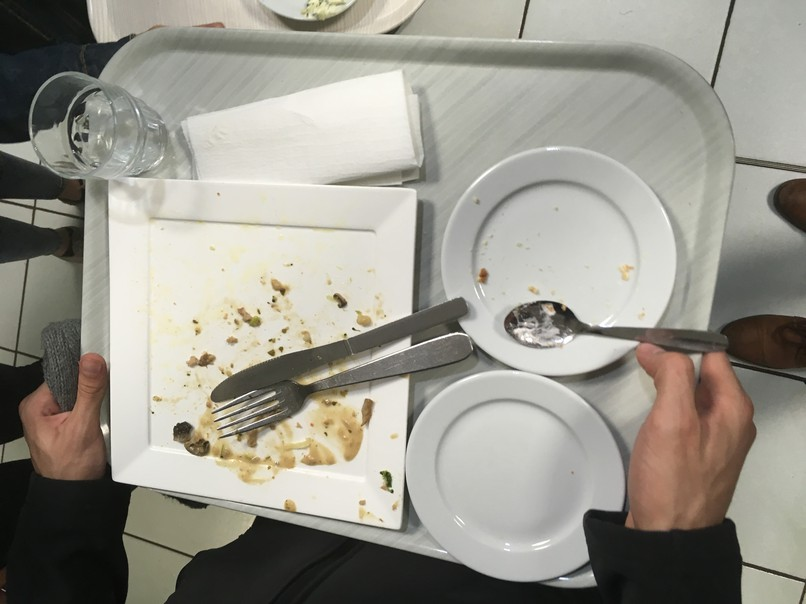cup: (17, 71, 170, 191)
cutlery: (202, 291, 481, 439), (509, 288, 753, 391)
trash: (190, 77, 421, 189)
